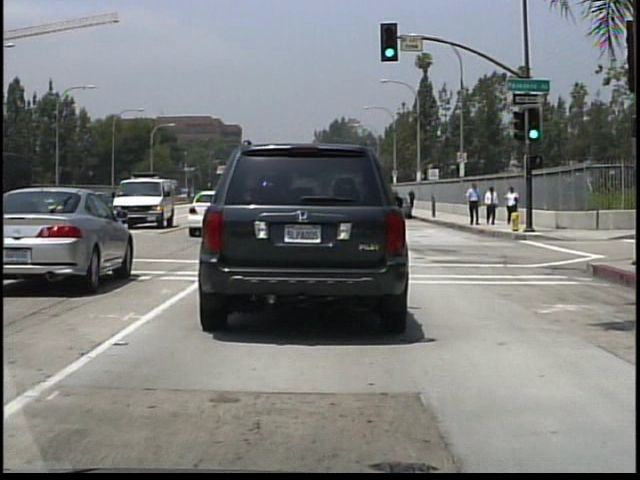person: (464, 180, 481, 227), (483, 185, 499, 226), (505, 184, 521, 213), (408, 188, 418, 204)
